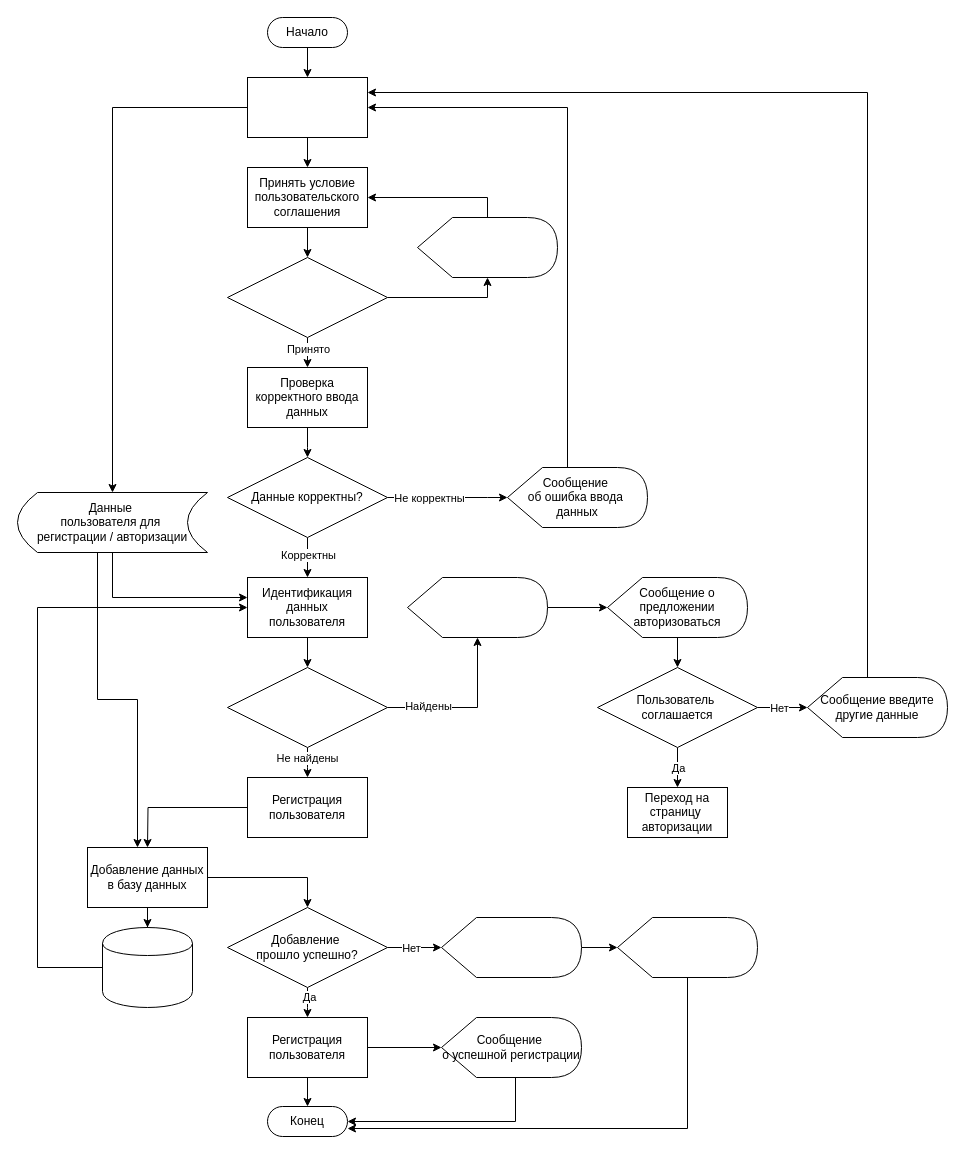
The diagram is 965 pixels wide and 1154 high, and some of its shapes have lost their labels. The centre of each missing label's shape, as x and y in pixels:
База данных пользователей: [147,967]
Ввод данных пользователя: [307,107]
Найдены совпадения?: [307,707]
Пользовательское соглашение принято?: [307,297]
Сообщение о необходимости согласия: [487,247]
Сообщение об наличии данных в БД: [477,607]
Сообщение об ошибки регистрации: [511,947]
Сообщение попробуйте позже: [687,947]
